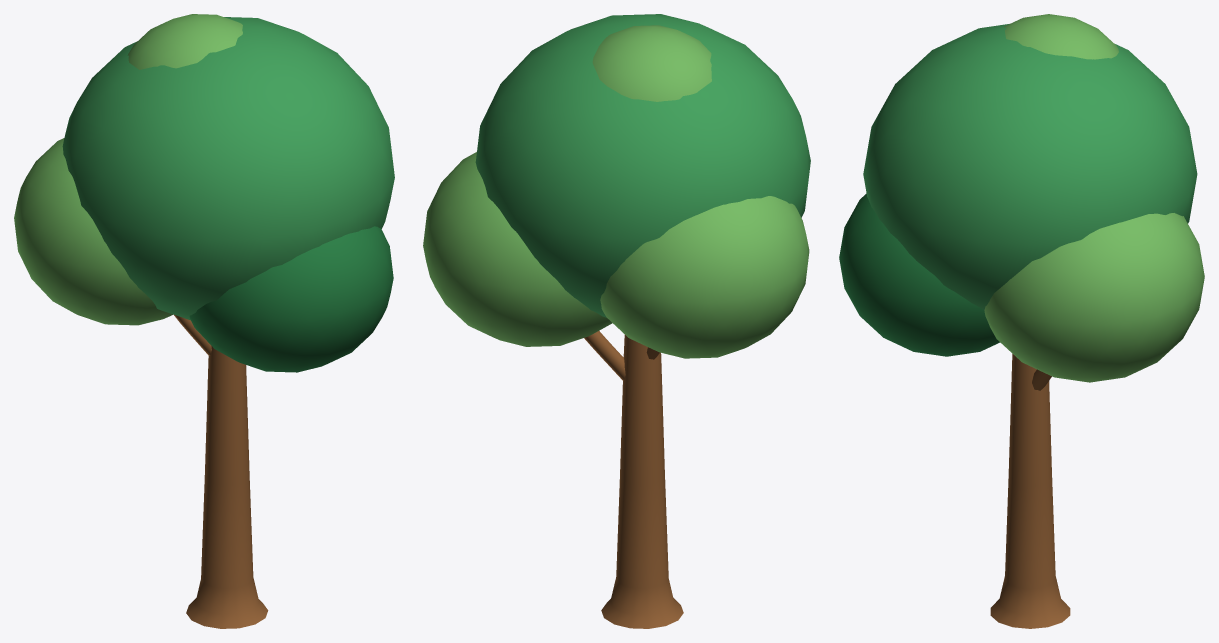
Rendered from tree.glb.
3 renders of one model, left to right at view 1: azimuth 30°, elevation 25°; view 2: azimuth 150°, elevation 25°; view 3: azimuth 270°, elevation 25°, orthographic.
Parts seen in each view (by area): view 1: Tree; view 2: Tree; view 3: Tree.
Part boxes in pixels (x1,y1,x2,y2): Tree: (14,14,394,628); Tree: (423,14,810,628); Tree: (839,14,1204,628).
Bounding box in the file's own units: 2.15 × 3.45 × 1.97.
